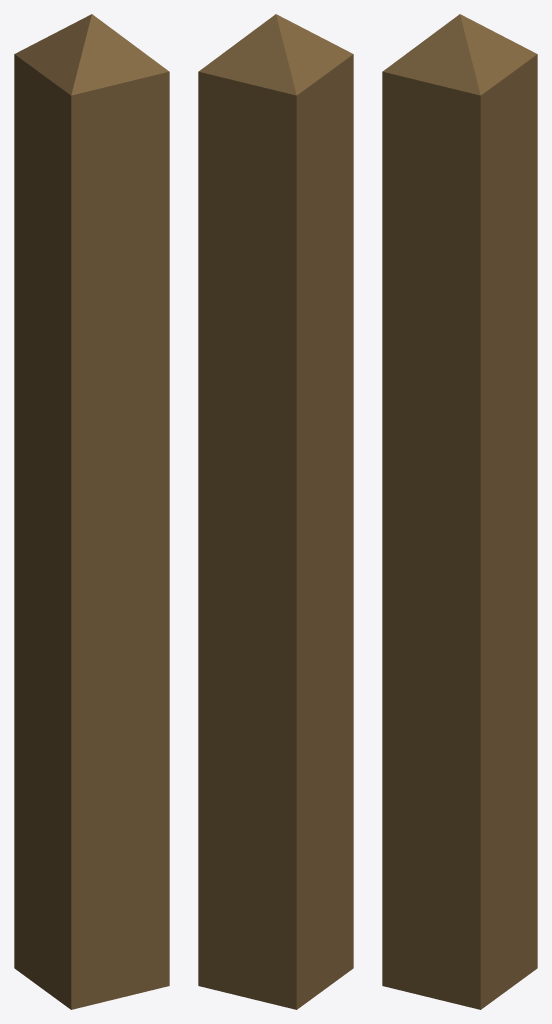
File: SM_PRP_WoodenPost_A_01.fbx
3 views of the same model, side by side, from view 1: azimuth 30°, elevation 25°; view 2: azimuth 150°, elevation 25°; view 3: azimuth 330°, elevation 25° (orthographic).
Parts seen in each view (by area): view 1: SM_PRP_WoodenPost_A_01; view 2: SM_PRP_WoodenPost_A_01; view 3: SM_PRP_WoodenPost_A_01.
Boxes of the visible parts, left/top/right/bottom form: SM_PRP_WoodenPost_A_01: left=14, top=14, right=169, bottom=1009; SM_PRP_WoodenPost_A_01: left=198, top=14, right=353, bottom=1009; SM_PRP_WoodenPost_A_01: left=382, top=14, right=537, bottom=1009.
Bounding box in the file's own units: 11.25 × 11.25 × 105.
